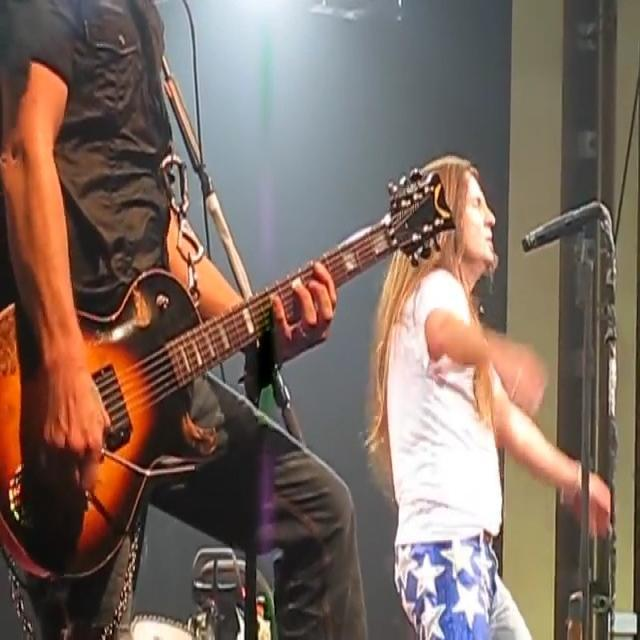Chainsaw: (124, 537, 282, 640)
